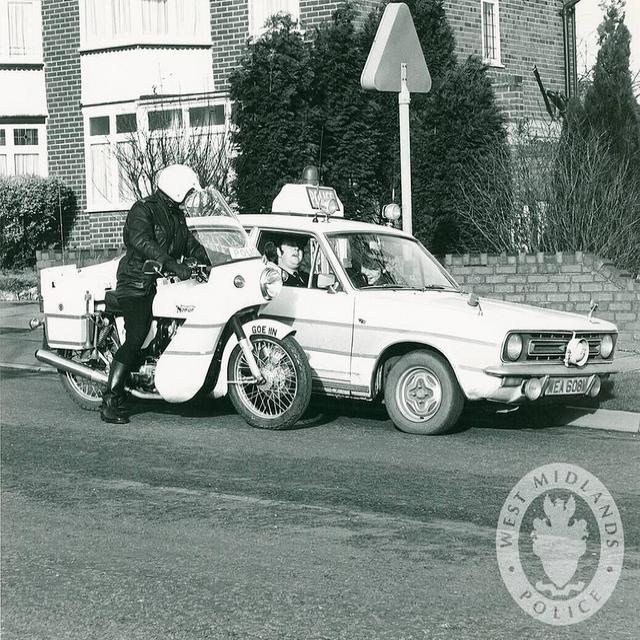motor: (28, 190, 312, 429)
